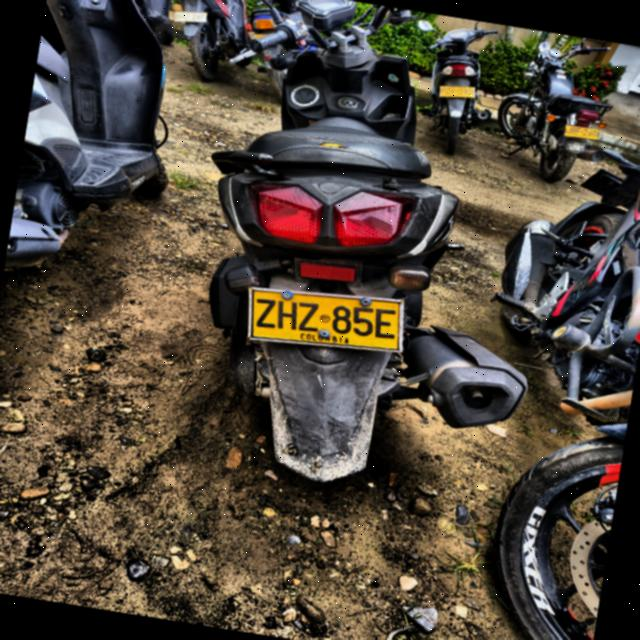5: (352, 306, 374, 337)
8: (331, 304, 352, 335)
E: (374, 308, 397, 339)
H: (277, 299, 298, 331)
Z: (297, 301, 321, 332), (255, 298, 277, 329)
